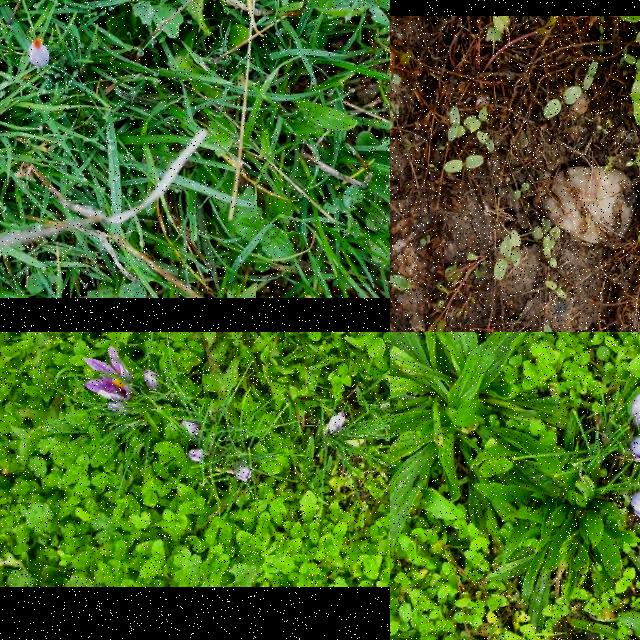flower: (86, 348, 132, 400), (30, 40, 50, 66), (630, 386, 640, 431), (326, 412, 346, 434), (144, 369, 160, 389), (183, 420, 199, 438), (630, 435, 640, 463), (632, 490, 640, 522), (238, 465, 252, 483), (190, 450, 206, 462)
